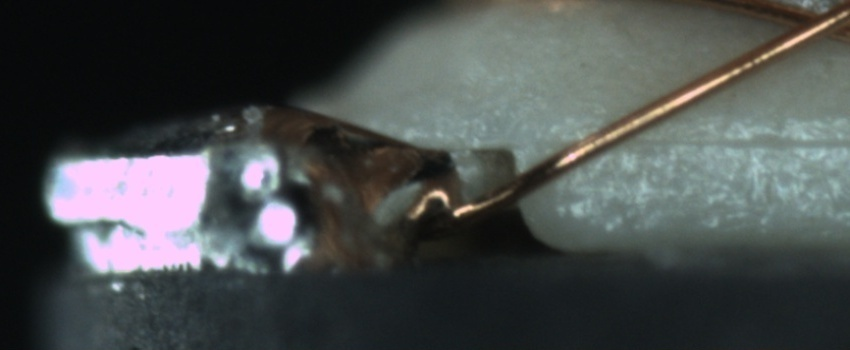CL: (763, 2, 848, 53)
DL: (612, 106, 847, 174)
